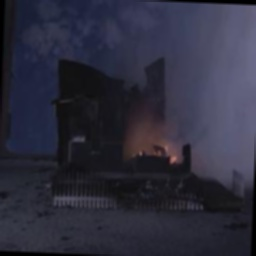smoke: (133, 1, 256, 149)
